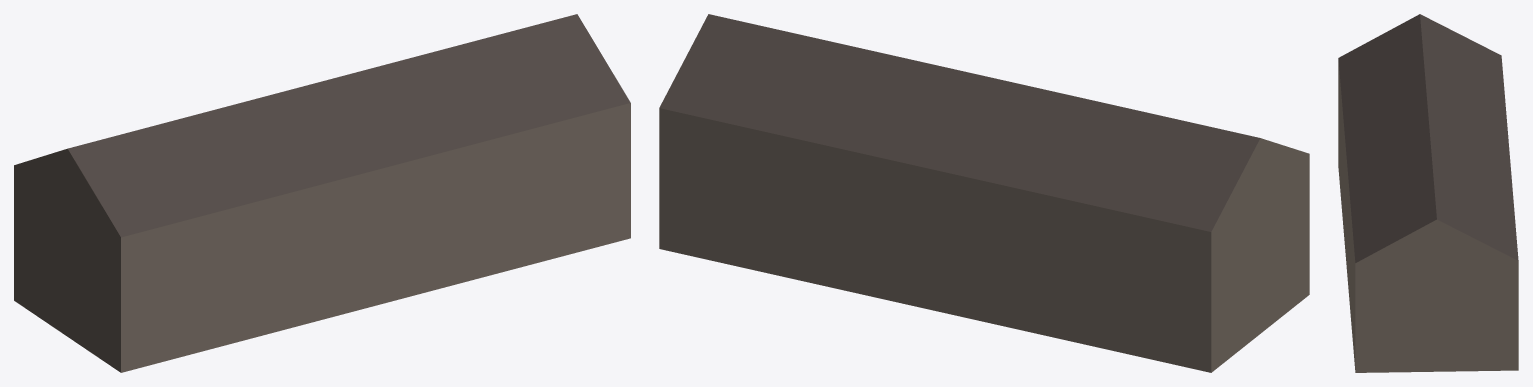
3 renders of one model, left to right at view 1: azimuth 30°, elevation 25°; view 2: azimuth 150°, elevation 25°; view 3: azimuth 270°, elevation 25°, orthographic. The views are drawn at different scales.
Visible parts, largest first — view 1: HP-w858807406; view 2: HP-w858807406; view 3: HP-w858807406.
Boxes of the visible parts, <box> form: HP-w858807406: <box>14,14,630,372</box>; HP-w858807406: <box>659,14,1309,372</box>; HP-w858807406: <box>1338,14,1518,372</box>.
Bounding box in the file's own units: 24.4 × 8.34 × 8.94.
